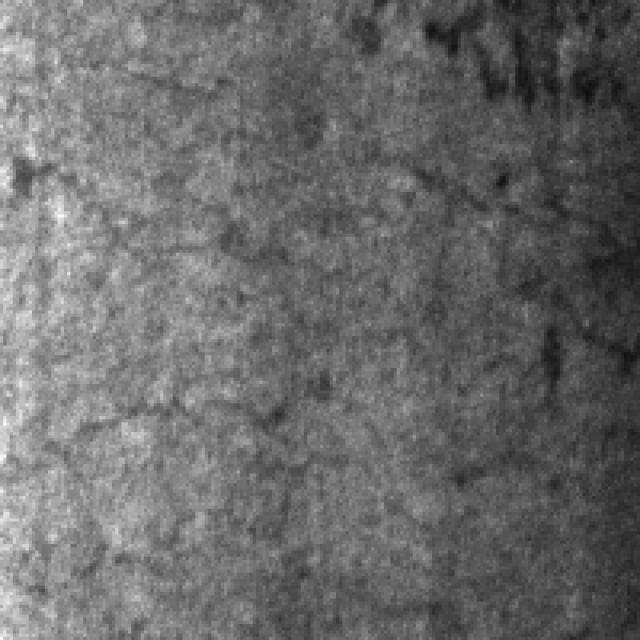crazing: (0, 125, 627, 470), (329, 0, 636, 102)
